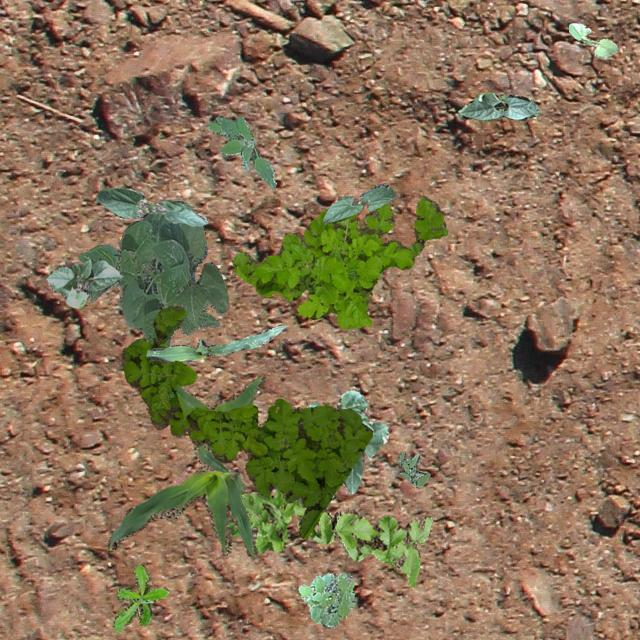crop: (78, 200, 228, 346), (106, 443, 256, 558), (306, 389, 388, 494), (168, 374, 264, 450), (144, 324, 286, 362), (96, 187, 206, 226), (46, 258, 121, 308), (322, 182, 394, 222), (456, 92, 540, 120), (568, 22, 618, 56)
weed: (120, 306, 372, 538), (232, 195, 446, 328), (226, 488, 432, 586), (204, 115, 276, 187), (111, 562, 168, 632), (298, 572, 354, 626), (396, 450, 429, 486)
